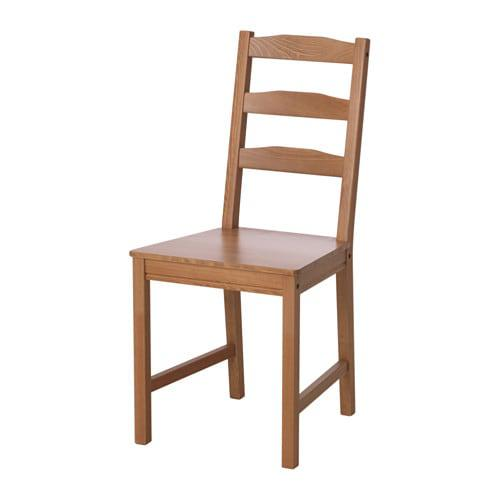chair: (93, 25, 402, 486)
